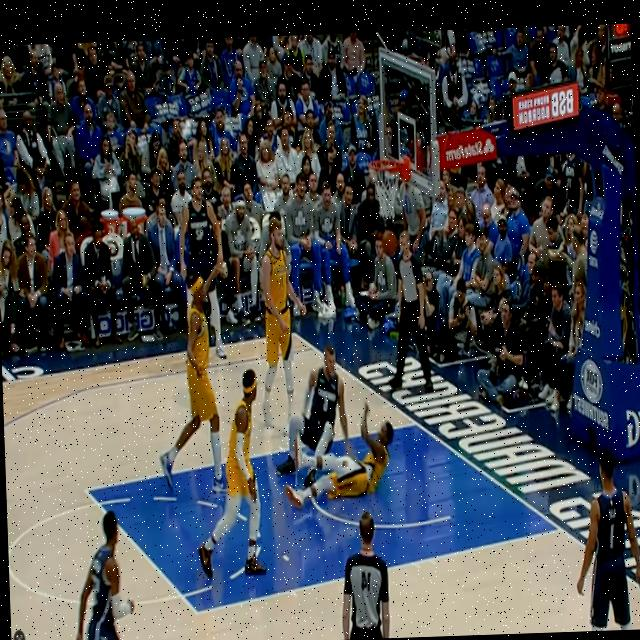foul: (272, 336, 406, 516)
no foul: (125, 268, 272, 606), (250, 218, 296, 434)
